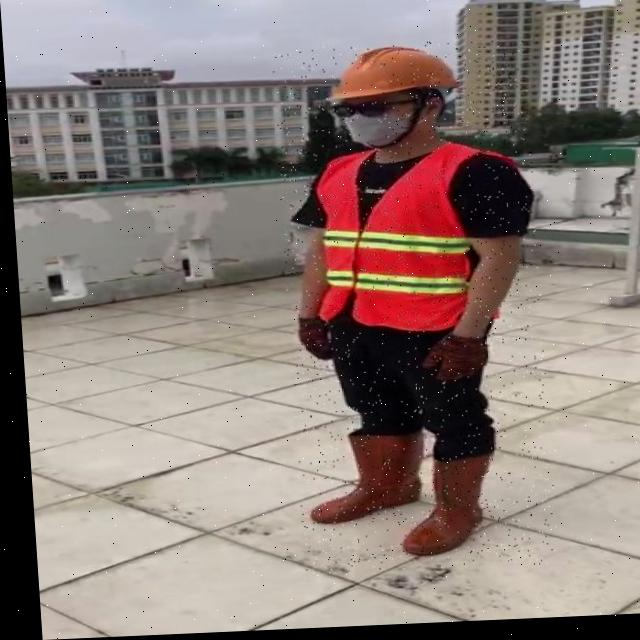Gloves: (413, 336, 484, 388), (292, 319, 327, 363)
Helmet: (324, 47, 458, 110)
Safety-Boot: (297, 429, 421, 527), (389, 453, 488, 559)
Safety-Vest: (287, 140, 533, 341)
